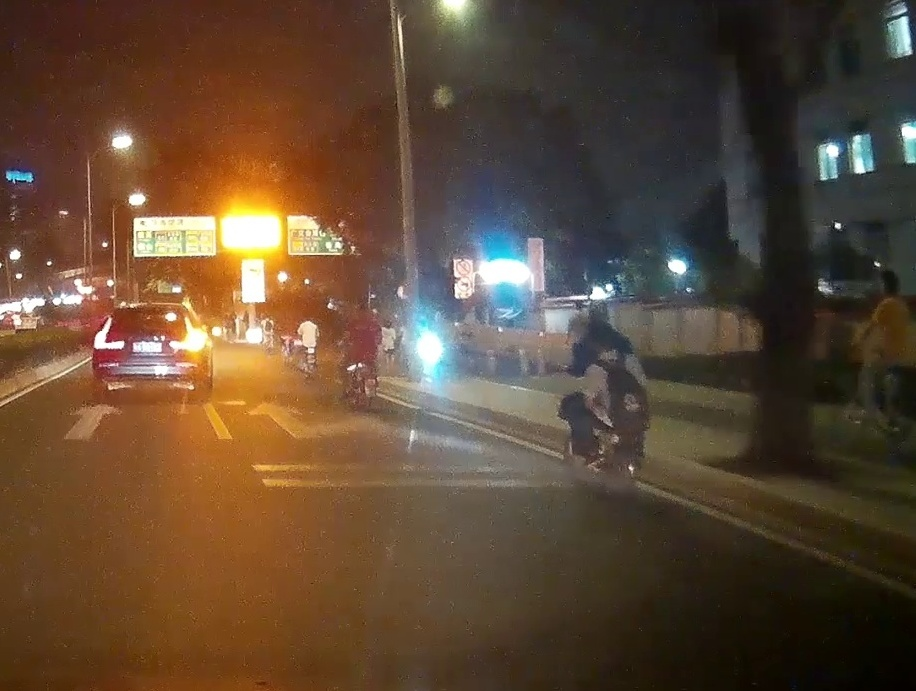L_light: (93, 317, 124, 350)
R_light: (169, 316, 202, 350)
T_light: (141, 309, 158, 314)
night-right: (90, 302, 211, 403)
